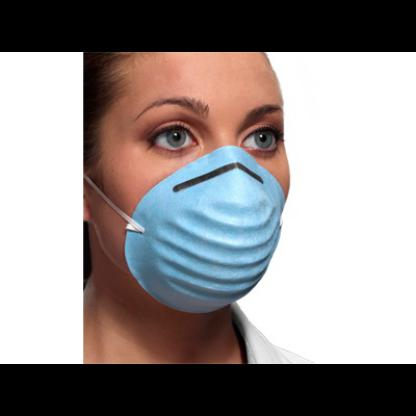FFP Mask: (87, 91, 293, 319)
